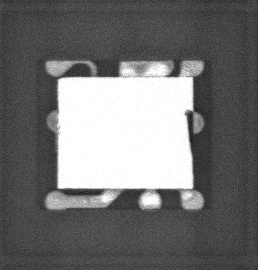DIE_BROKEN: (182, 107, 193, 152)
